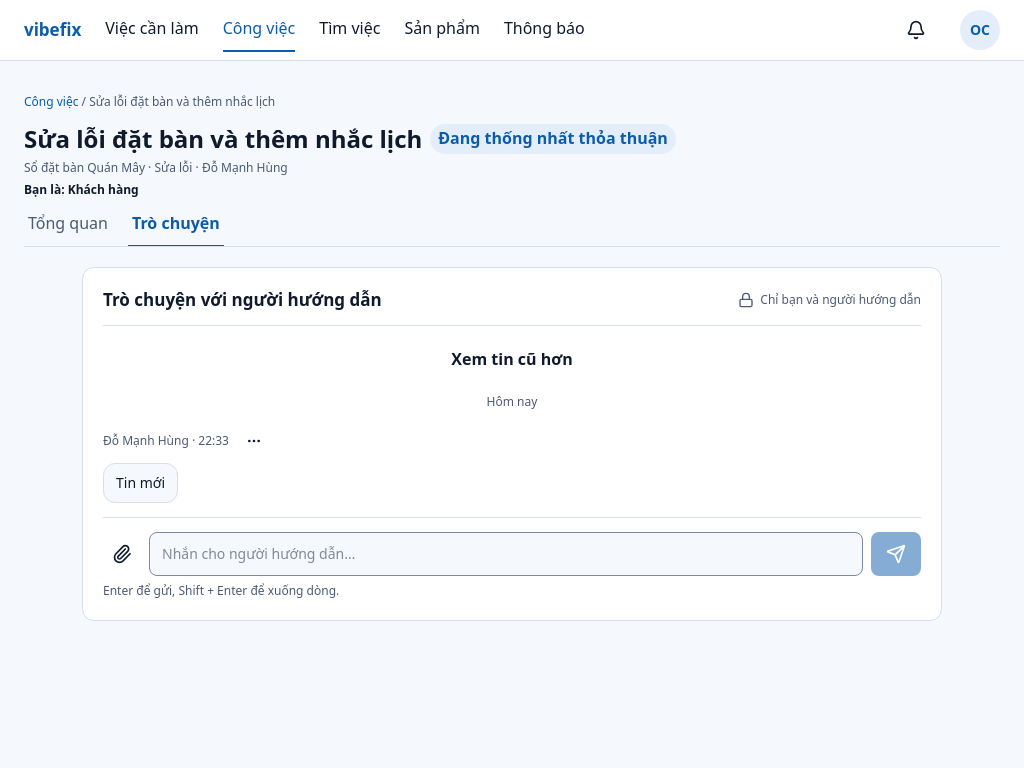
Test: JOB-4 "Trò chuyện" (FR-46, UX-DR25, UX-DR40) › loads older messages on "Xem tin cũ hơn"
Click the button "Xem tin cũ hơn" at (512, 359), box [438, 340, 586, 379]
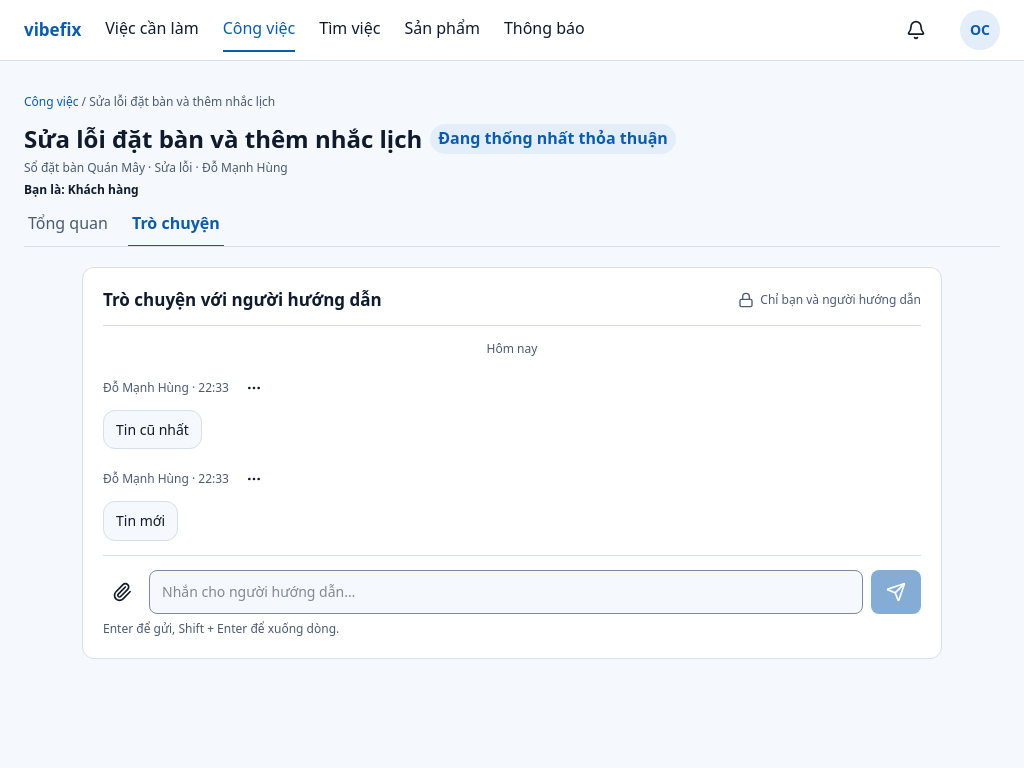
expect the text "Tin mới" is shown: met, box [116, 510, 165, 532]
expect the text "Tin cũ nhất" is shown: met, box [116, 419, 189, 440]
expect the button "Xem tin cũ hơn" is gone: met
